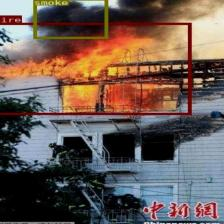fire: (0, 22, 190, 114)
smoke: (33, 0, 107, 38)
